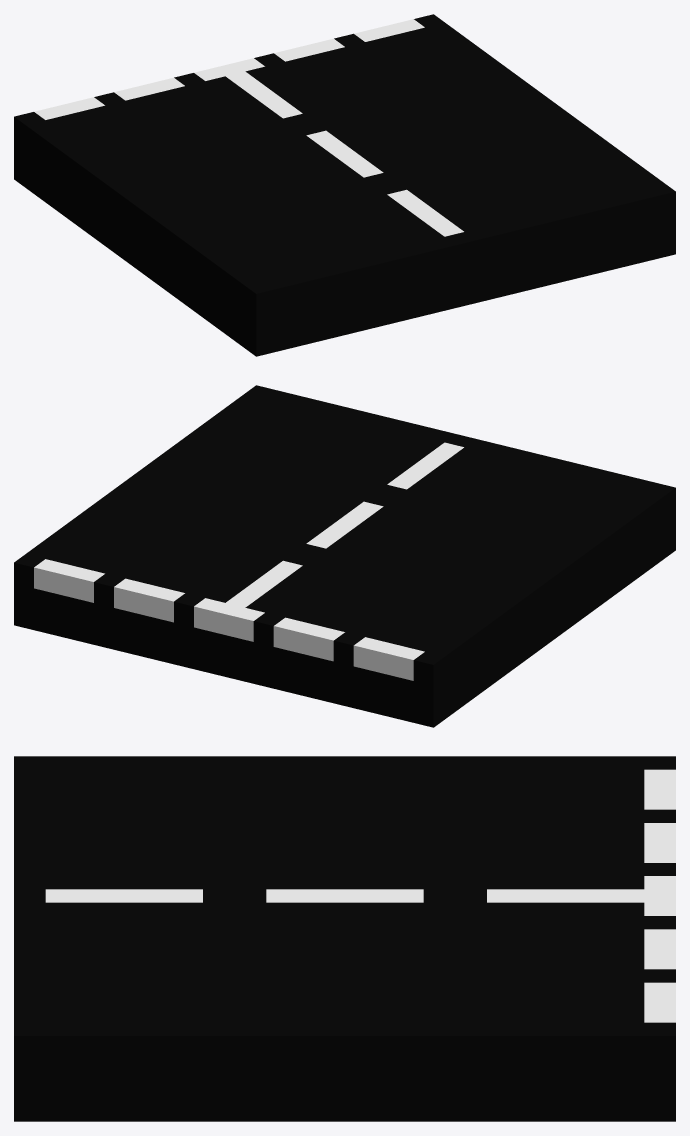
File: Exports-2.obj
3 renders of one model, top to bottom at view 1: azimuth 30°, elevation 25°; view 2: azimuth 150°, elevation 25°; view 3: azimuth 270°, elevation 25°, orthographic. The views are drawn at different scales.
Bounding box in the file's own units: 2.1 × 0.3 × 2.1.
Materials: 1 (1 with a texture image).
